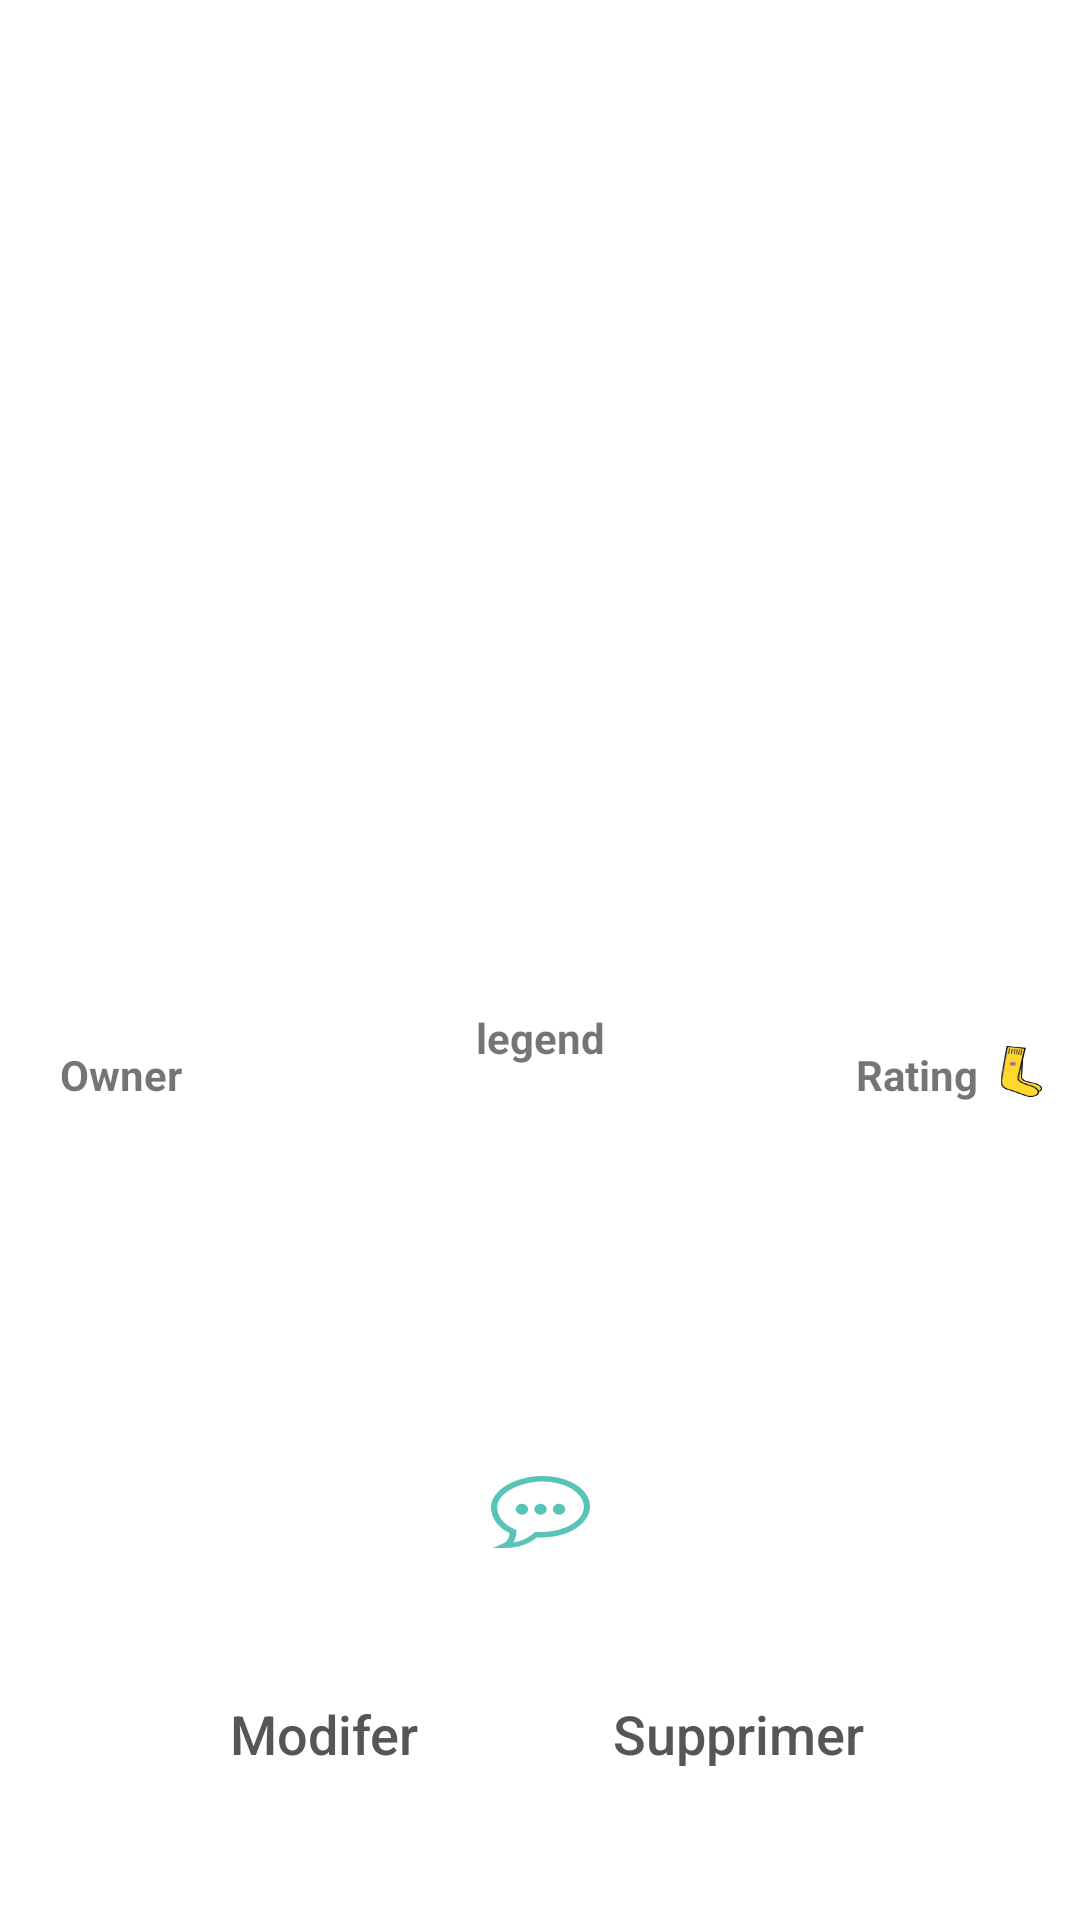

Where to tap for icons on this 1080 × 1920 app screen, as (x,y):
chaussette: (1021,1071)
commenting: (540,1512)
